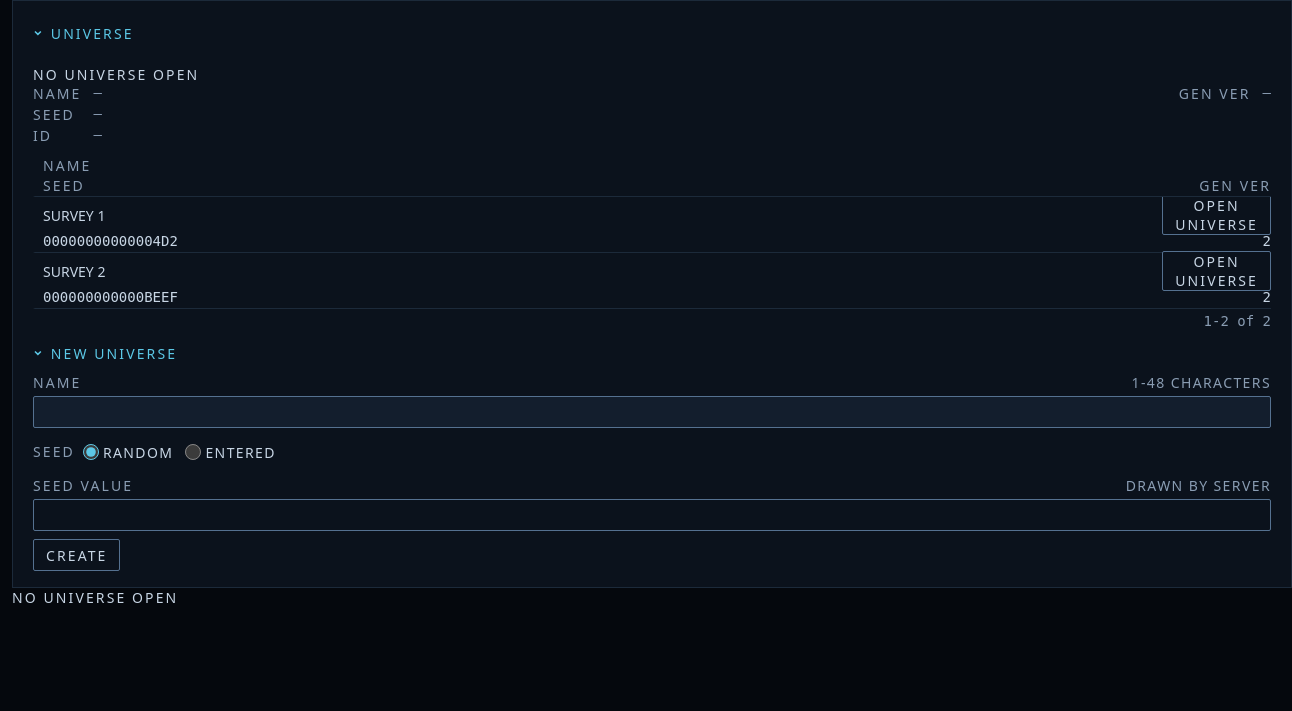
Scenario: ParametersPanel › shows the seed and generator version first, and not again in their group
This screenshot has width=1292, height=711.
Click the button with aria-label "Open universe SURVEY 1". click: click(1217, 215)
box: [1162,195,1271,235]
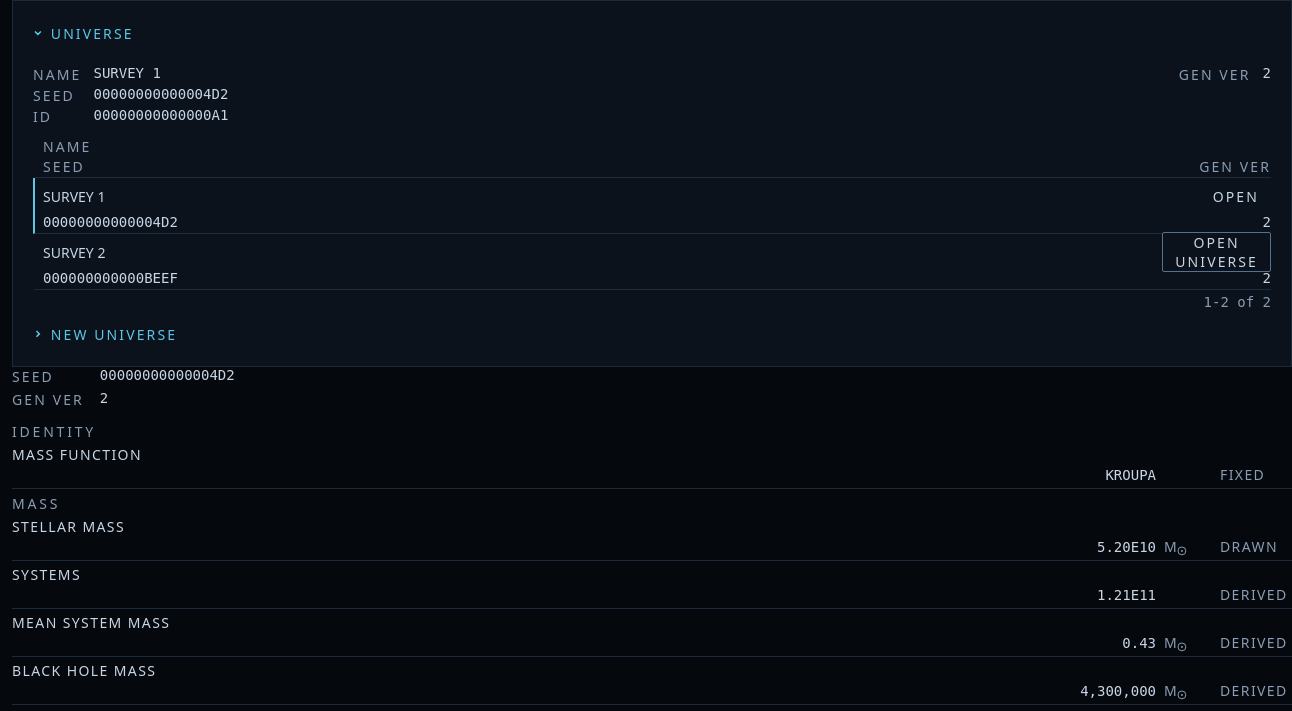
Expected: the 2nd text "00000000000004D2" is shown, [100,367,235,383]
Expected: the 2nd text "2" is shown, [100,390,108,406]
Expected: the row "MASS FUNCTION KROUPA FIXED" is shown, [12,441,1291,489]
